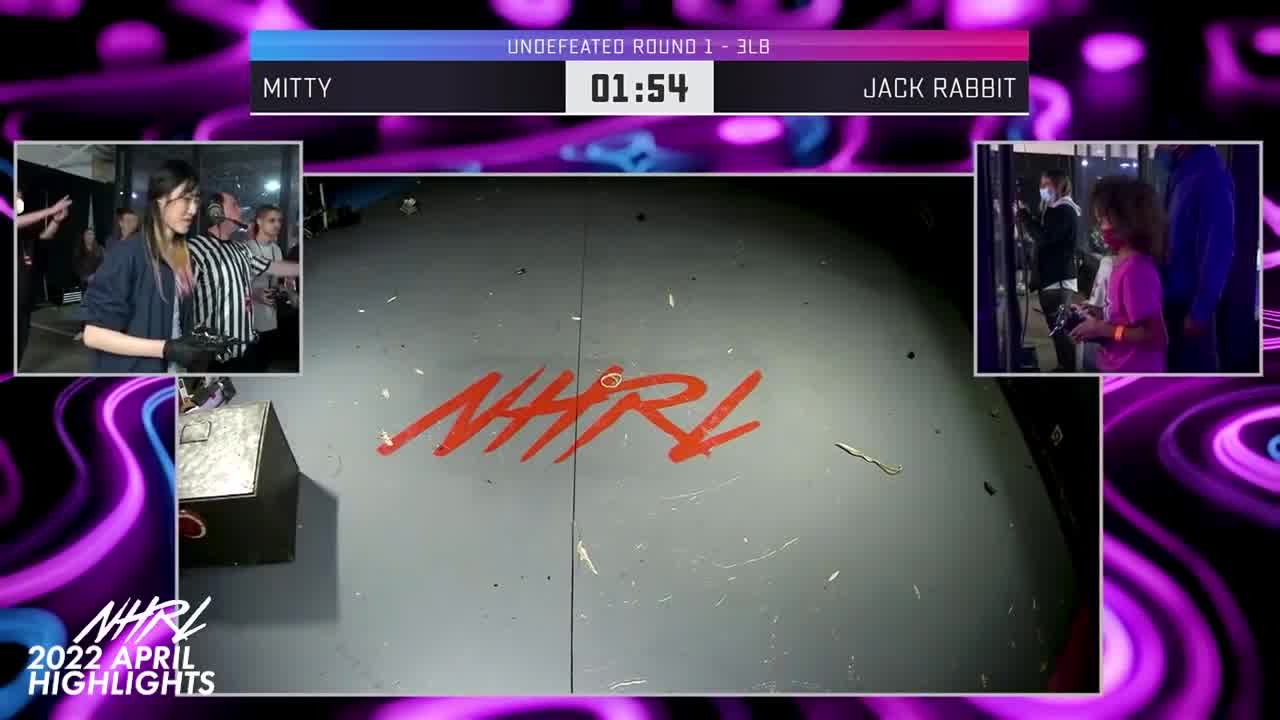belt: (601, 371, 622, 390)
debris: (834, 435, 904, 480)
housebot: (178, 401, 299, 570)
